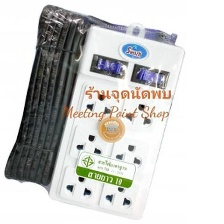three_eye_plug: (41, 18, 187, 224)
